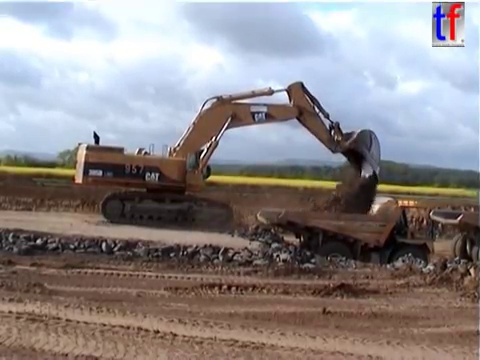excavator: (71, 78, 384, 231)
truck: (254, 196, 437, 286), (427, 207, 480, 271)
